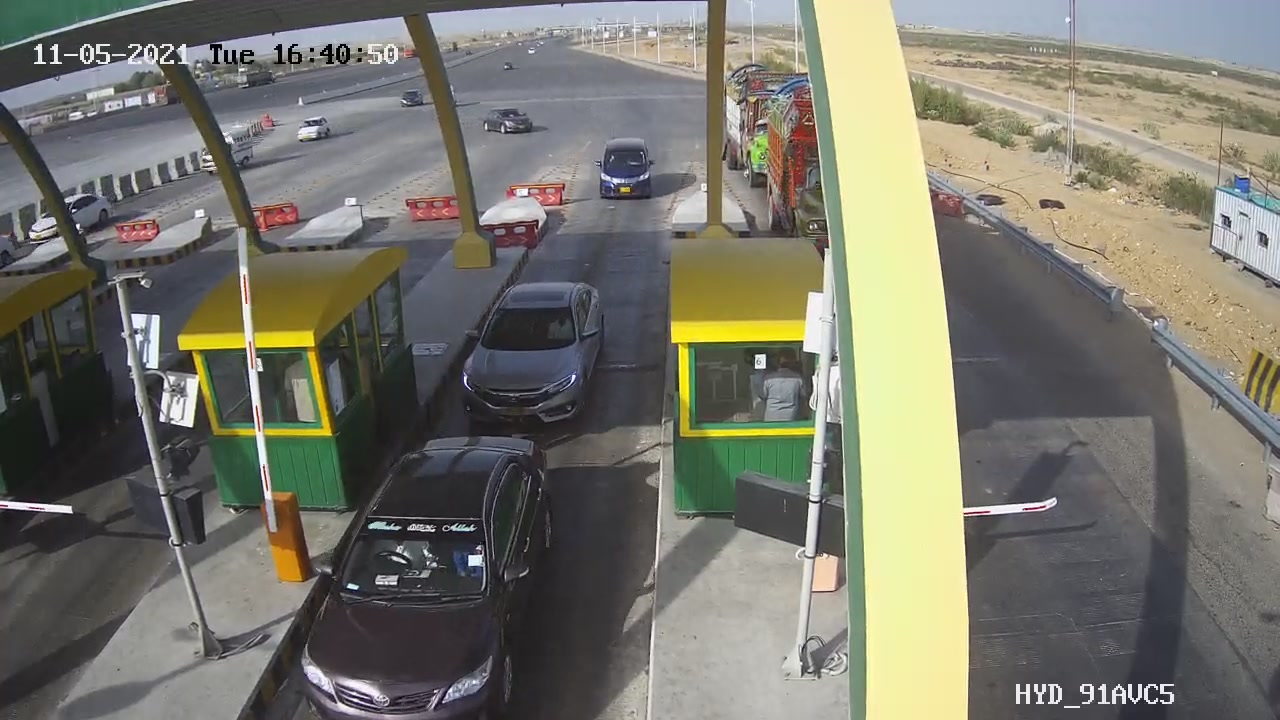F1: (446, 272, 618, 436)
